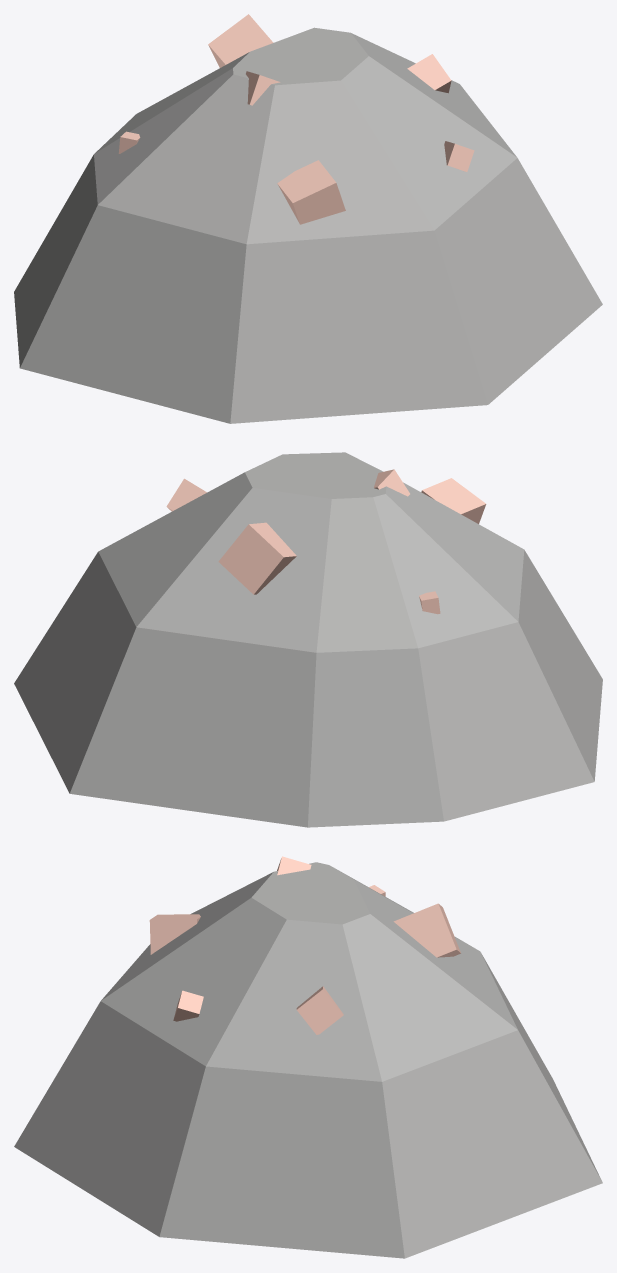
File: RockIron.fbx
3 views of the same model, one above another, from view 1: azimuth 30°, elevation 25°; view 2: azimuth 150°, elevation 25°; view 3: azimuth 270°, elevation 25° (orthographic). The views are drawn at different scales.
Parts seen in each view (by area): view 1: Rock, Ore.002, Ore.001, Ore, Ore.005, Ore.003; view 2: Rock, Ore.001, Ore.002, Ore, Ore.003; view 3: Rock, Ore.001, Ore, Ore.002, Ore.005.
Part boxes in pixels (left/top/right/bottom): Rock: left=14, top=27, right=602, bottom=423; Ore.002: left=277, top=160, right=345, bottom=224; Ore.001: left=208, top=14, right=273, bottom=67; Ore: left=407, top=54, right=451, bottom=93; Ore.005: left=444, top=141, right=474, bottom=171; Ore.003: left=246, top=71, right=280, bottom=105; Rock: left=14, top=452, right=602, bottom=827; Ore.001: left=218, top=522, right=296, bottom=594; Ore.002: left=421, top=478, right=486, bottom=523; Ore: left=166, top=478, right=206, bottom=511; Ore.003: left=374, top=469, right=409, bottom=496; Rock: left=14, top=862, right=602, bottom=1258; Ore.001: left=393, top=903, right=460, bottom=957; Ore: left=296, top=986, right=343, bottom=1034; Ore.002: left=149, top=914, right=200, bottom=954; Ore.005: left=173, top=990, right=203, bottom=1021.
Size of the model in its own units: 787 by 346 by 749.
